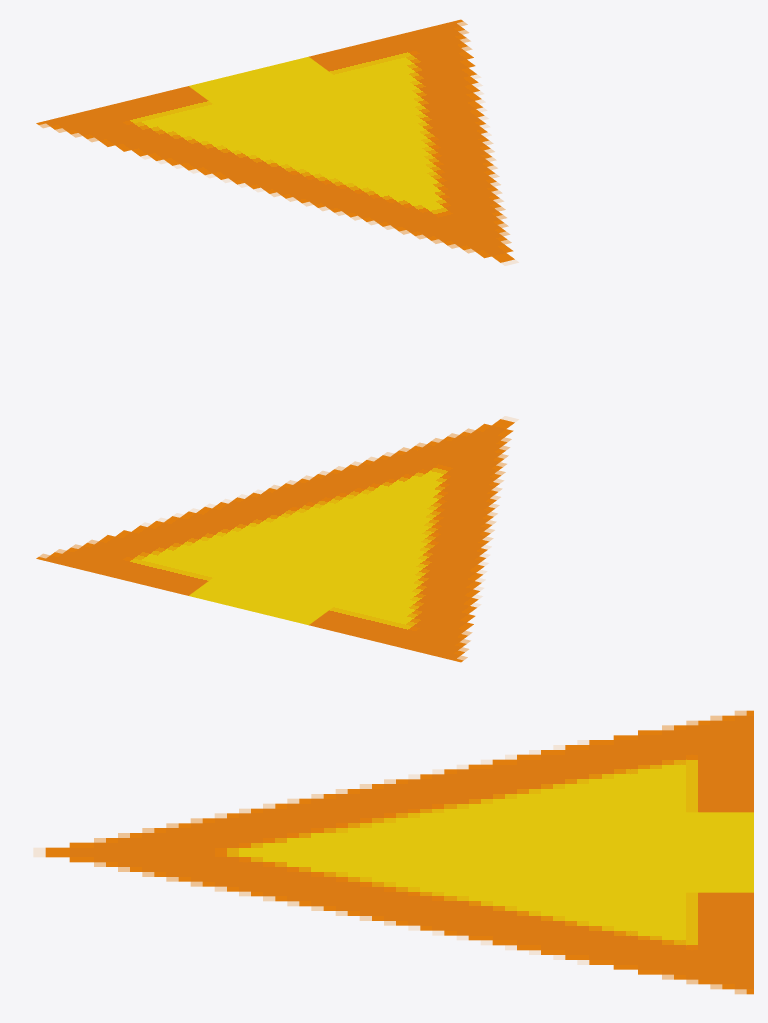
Rendered from bbl_Arrow_A__bbl_Arrow_A.glb.
The picture shows the model from 3 angles, top to bottom: view 1: azimuth 30°, elevation 25°; view 2: azimuth 150°, elevation 25°; view 3: azimuth 270°, elevation 25°; orthographic projection. The views are drawn at different scales.
Visible parts, largest first — view 1: polygon0, polygon1; view 2: polygon0, polygon1; view 3: polygon0, polygon1.
Part boxes in pixels (x1,y1,x2,y2): polygon0: [36, 19, 514, 262]; polygon1: [39, 21, 511, 253]; polygon0: [36, 419, 514, 662]; polygon1: [39, 428, 511, 660]; polygon0: [45, 710, 753, 994]; polygon1: [94, 711, 746, 993].
Size of the model in its own units: 6 by 0 by 6.
2 materials, 2 textured.
